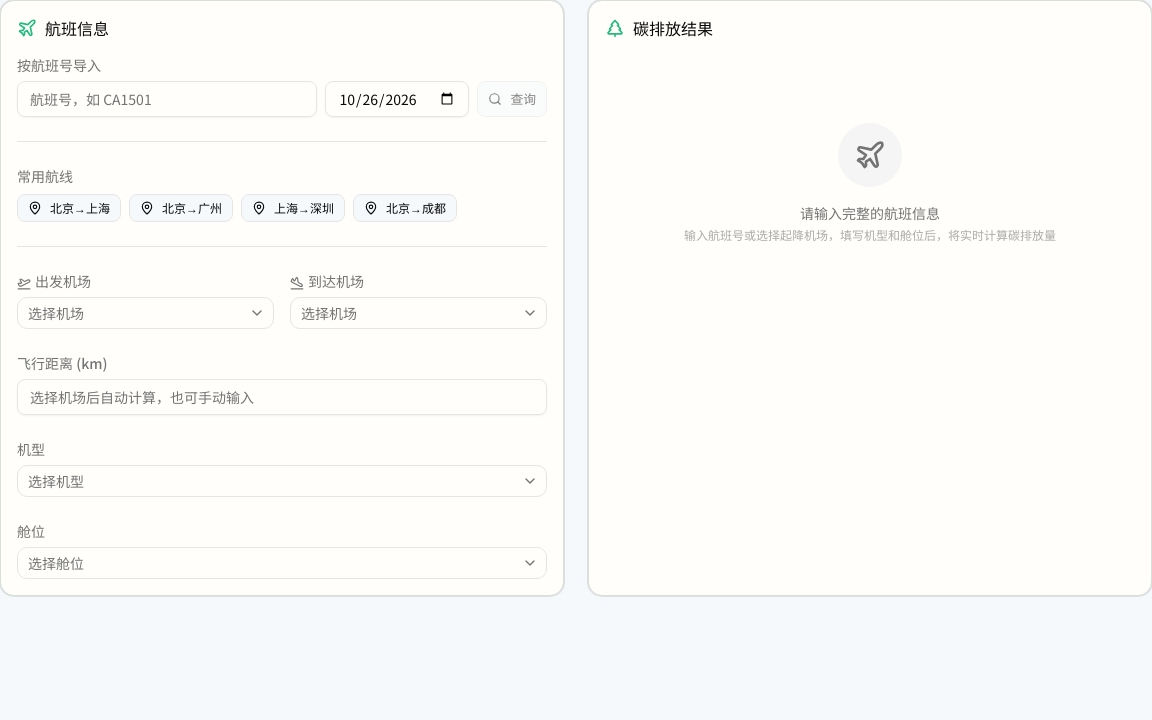
Test: CarbonCalculator › preset route button fills the airports and the computed distance
The image size is (1152, 720).
Click the button "北京→上海" at [69, 208], box [17, 194, 121, 222]
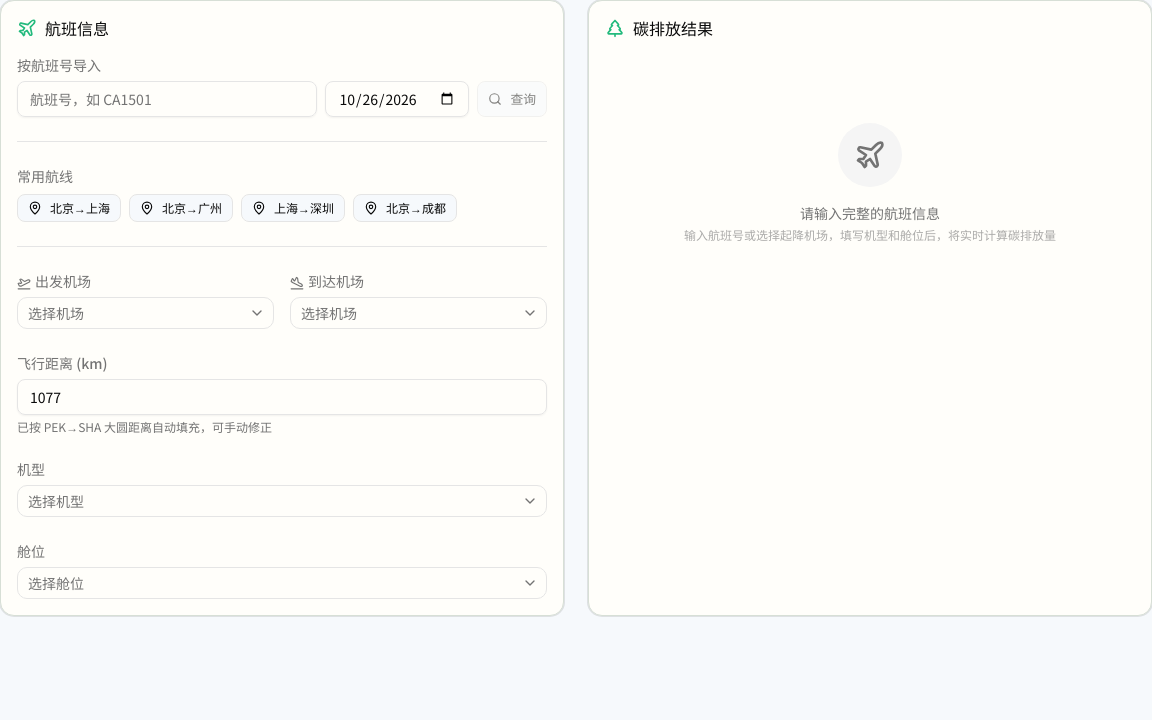
Expected: the number field labelled "飞行距离 (km)" holds "1077", [17, 379, 547, 415]
